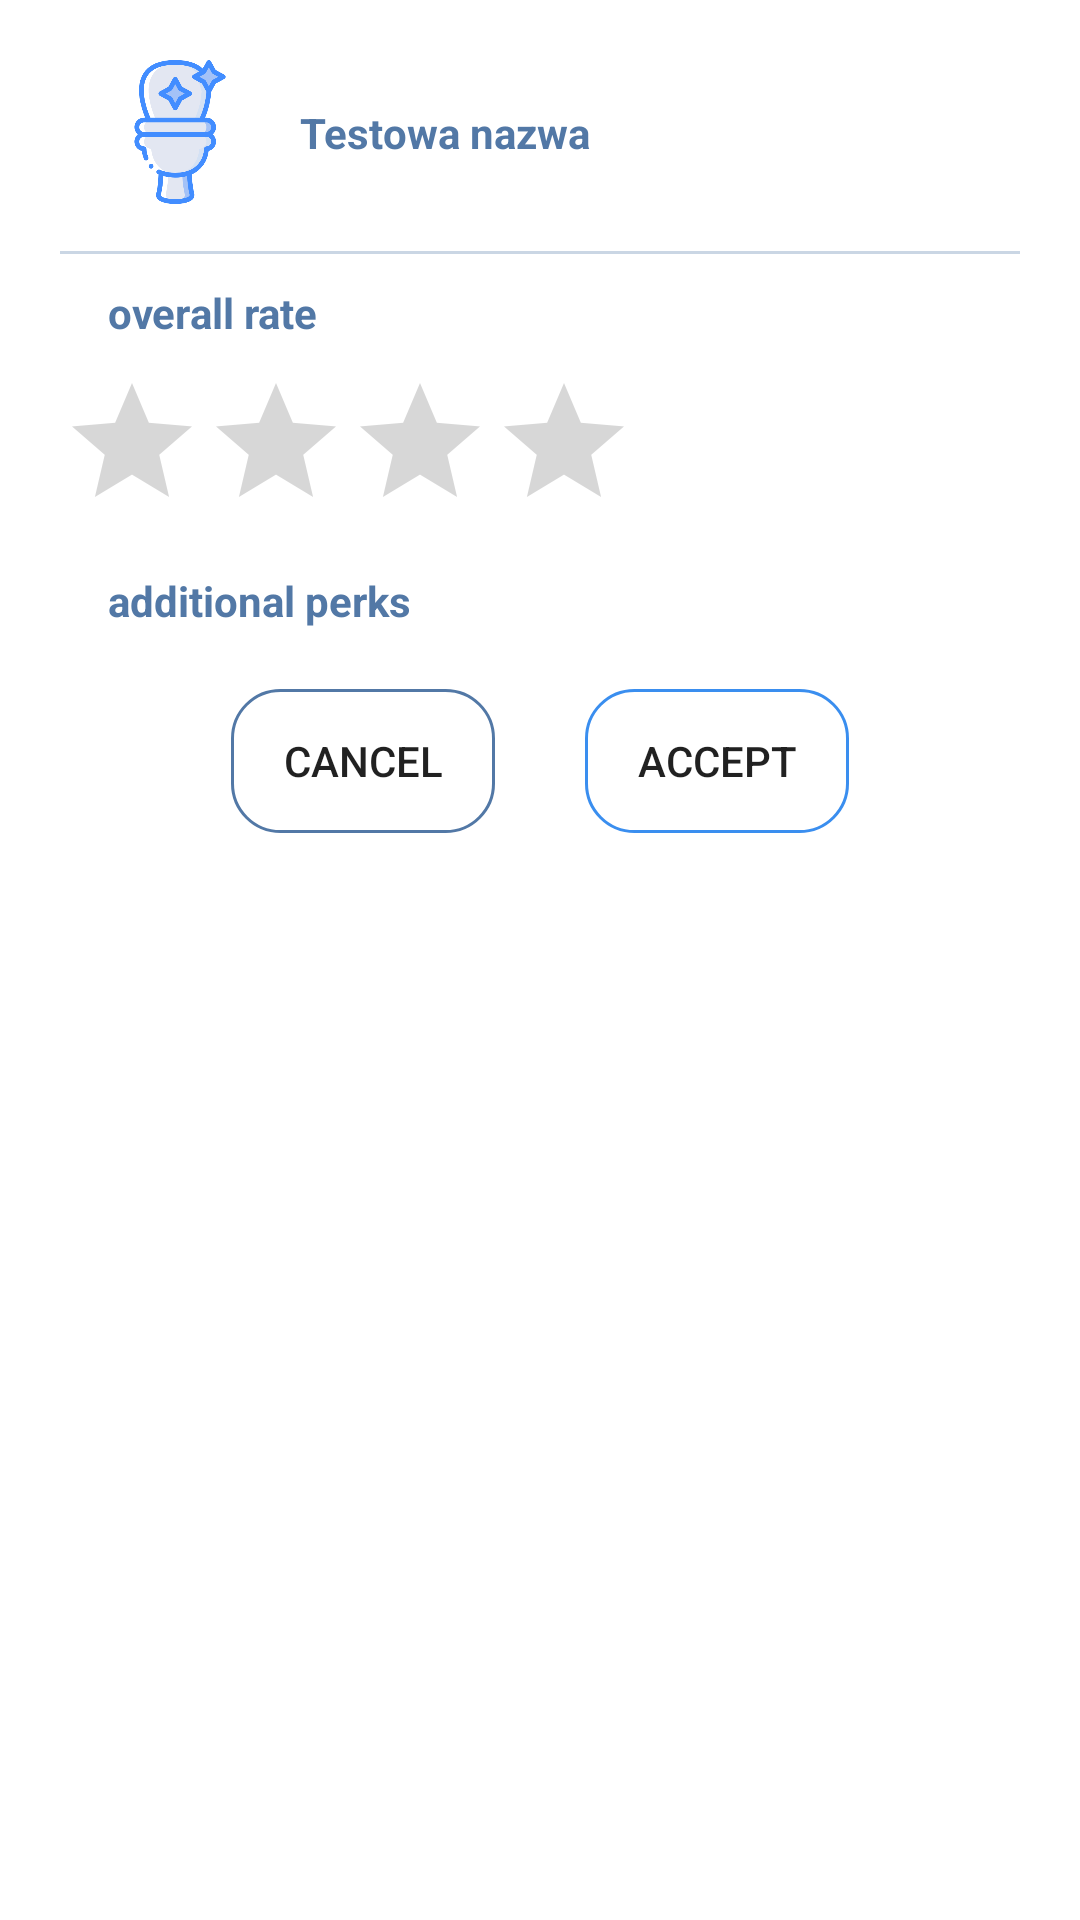

Screen size 1080×1920. Icon name, then its box in pixels as (x1, y1, x2, y2):
toilet: (134, 60, 226, 204)
